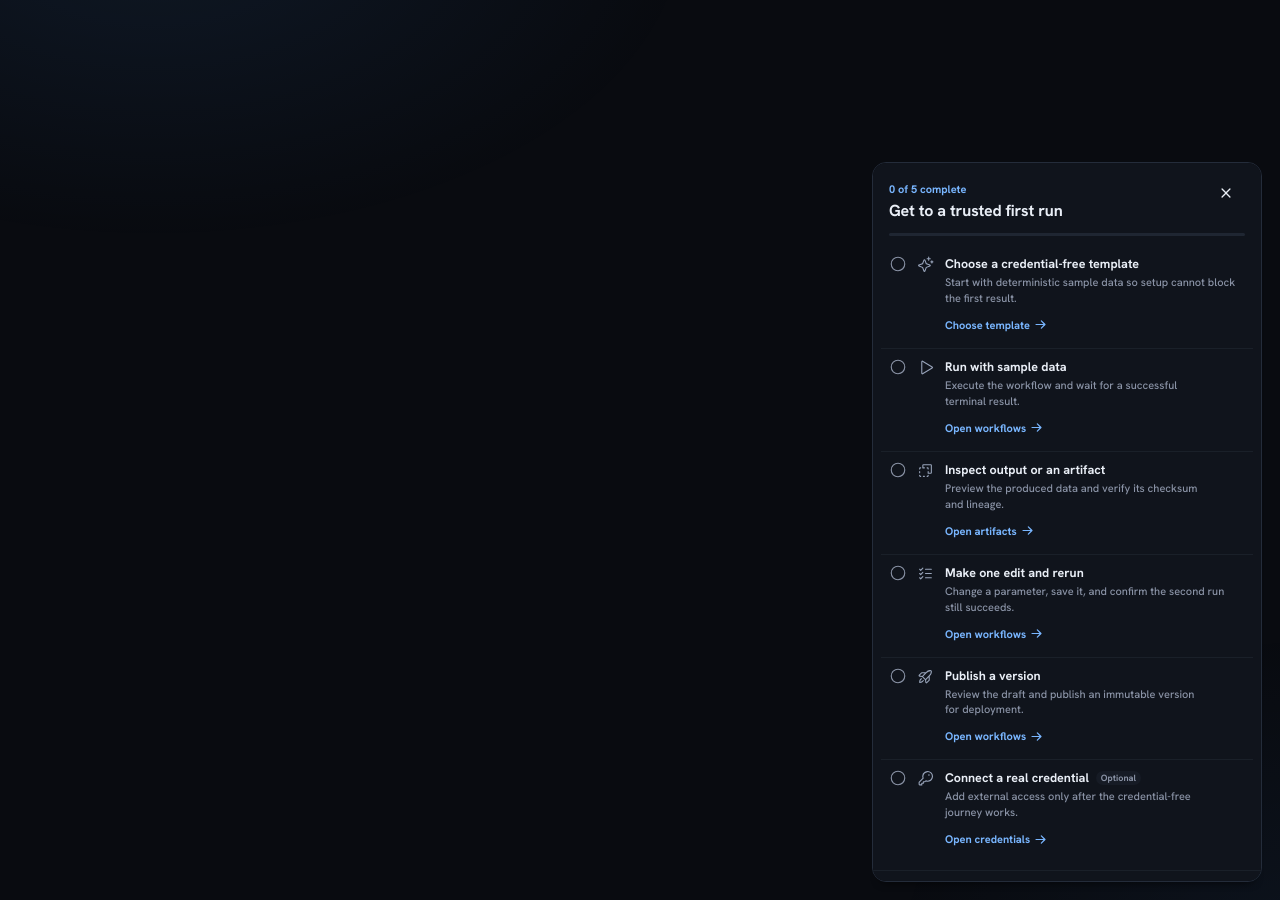
Test: FirstRunWizard › persists a collapsed checklist per user
Click the button named "Collapse activation checklist" at (1226, 193), box [1207,179,1245,207]
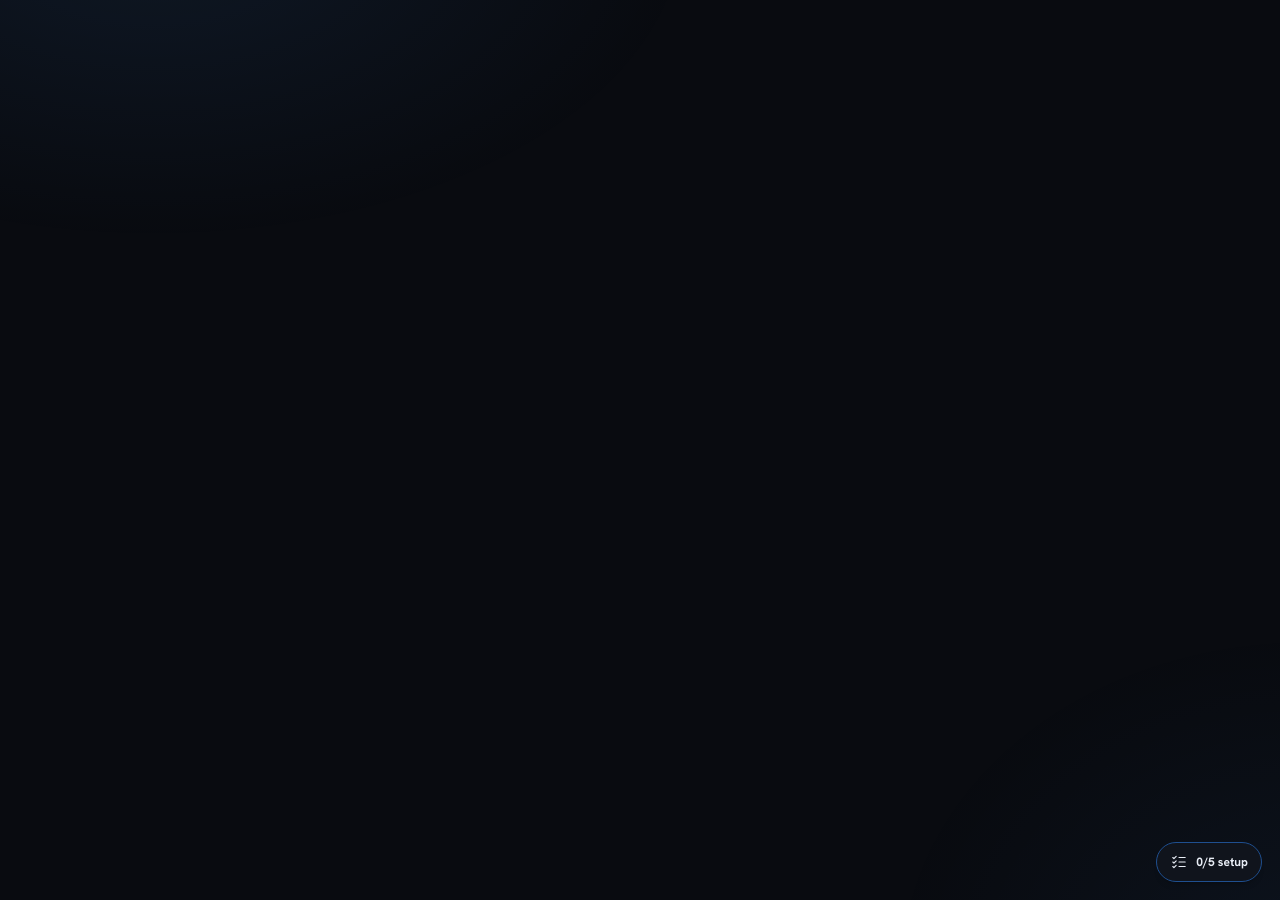
Result: the button with aria-label "Open activation checklist, 0 of 5 complete" is shown at [1156,842,1262,882]
